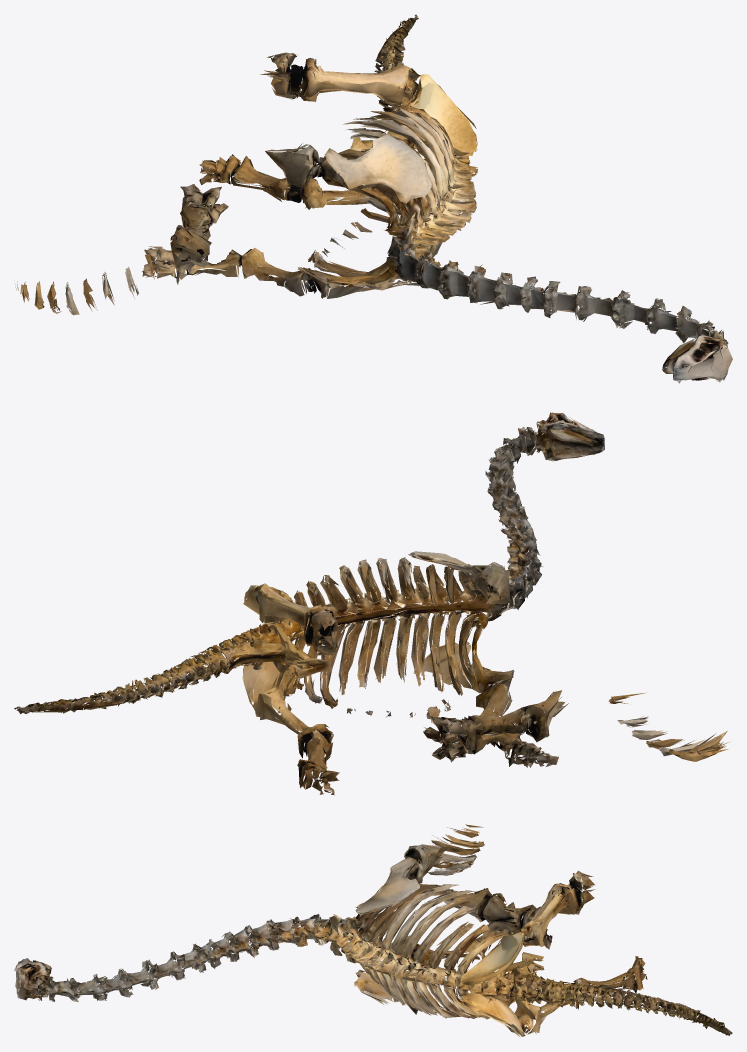
File: dino_b.glb
The picture shows the model from 3 angles, top to bottom: view 1: azimuth 30°, elevation 25°; view 2: azimuth 150°, elevation 25°; view 3: azimuth 270°, elevation 25°; orthographic projection. The views are drawn at different scales.
Visible parts, largest first — view 1: dino_fossil.002; view 2: dino_fossil.002; view 3: dino_fossil.002.
Boxes of the visible parts, x1,y1,x2,y2 form: dino_fossil.002: [15, 14, 732, 383]; dino_fossil.002: [14, 412, 730, 795]; dino_fossil.002: [14, 824, 732, 1036].
Bounding box in the file's own units: 7.01 × 1.88 × 9.41.
1 material, 1 textured.
